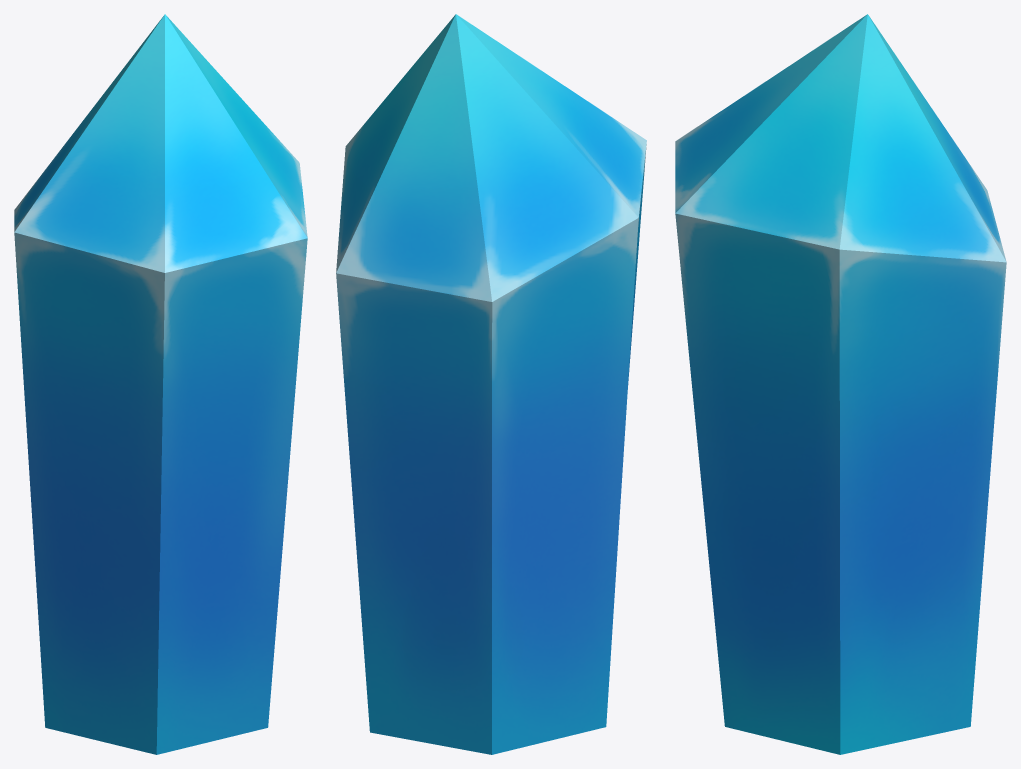
The model's file is Crystal_3.FBX.
The picture shows the model from 3 angles, left to right: view 1: azimuth 30°, elevation 25°; view 2: azimuth 150°, elevation 25°; view 3: azimuth 270°, elevation 25°; orthographic projection. The views are drawn at different scales.
Parts seen in each view (by area): view 1: Crystal_3; view 2: Crystal_3; view 3: Crystal_3.
Boxes of the visible parts, <box> form: Crystal_3: <box>14,14,307,754</box>; Crystal_3: <box>336,14,646,754</box>; Crystal_3: <box>675,14,1006,754</box>.
Size of what is drawn, in the model's own units: 87.54 by 84.96 by 197.
